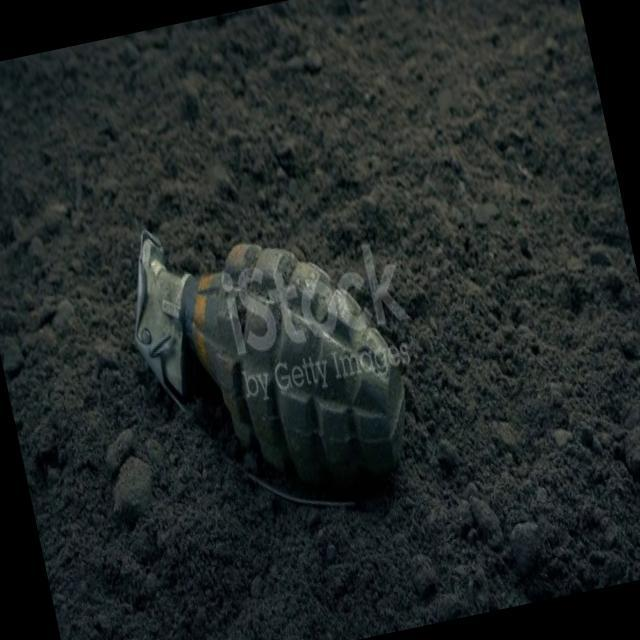grenade: (117, 182, 432, 550)
